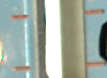border: (83, 8, 106, 16), (12, 64, 35, 72), (84, 60, 107, 68), (9, 14, 30, 20)
